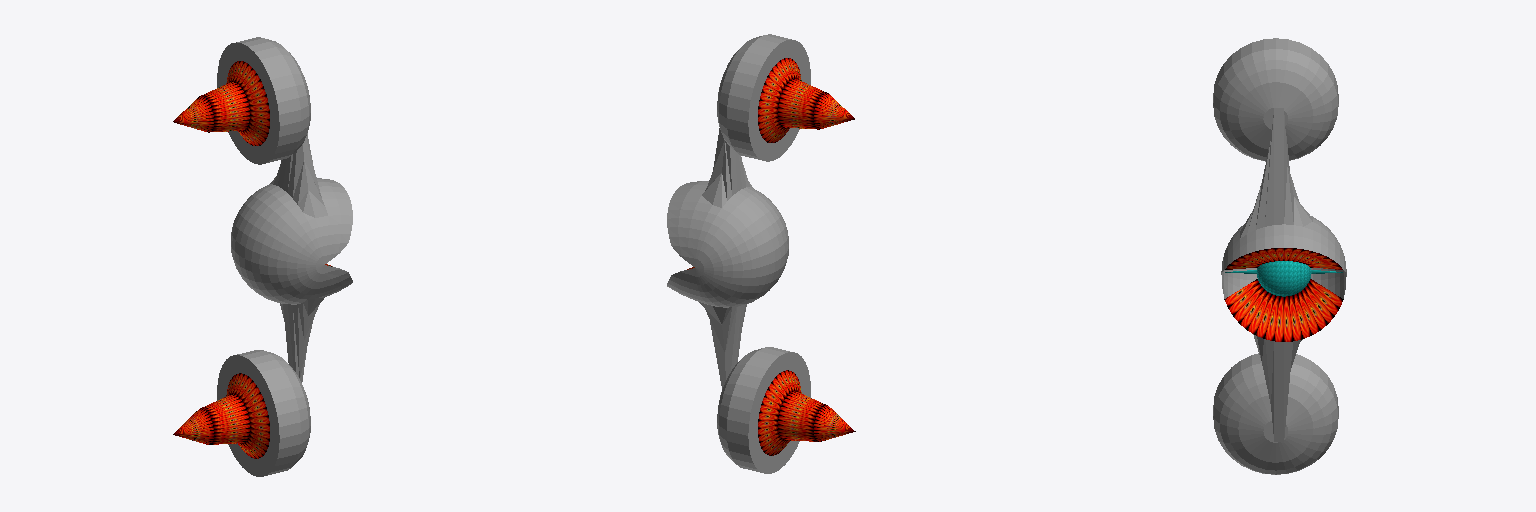
The picture shows the model from 3 angles: view 1: azimuth 30°, elevation 25°; view 2: azimuth 150°, elevation 25°; view 3: azimuth 270°, elevation 25°; orthographic projection.
Parts seen in each view (by area): view 1: Sphere, Sphere.001, Sphere.002; view 2: Sphere, Sphere.001, Sphere.002; view 3: Sphere, Sphere.001, Sphere.002.
Part boxes in pixels (left/top/right/bottom): Sphere: left=231, top=133, right=352, bottom=382; Sphere.001: left=173, top=37, right=310, bottom=164; Sphere.002: left=173, top=350, right=310, bottom=476; Sphere: left=667, top=128, right=788, bottom=388; Sphere.001: left=717, top=34, right=854, bottom=161; Sphere.002: left=717, top=347, right=855, bottom=473; Sphere: left=1221, top=108, right=1346, bottom=442; Sphere.001: left=1213, top=38, right=1338, bottom=161; Sphere.002: left=1213, top=353, right=1338, bottom=474.
Bounding box in the file's own units: 15.77 × 37.5 × 10.65.
3 materials, 2 textured.